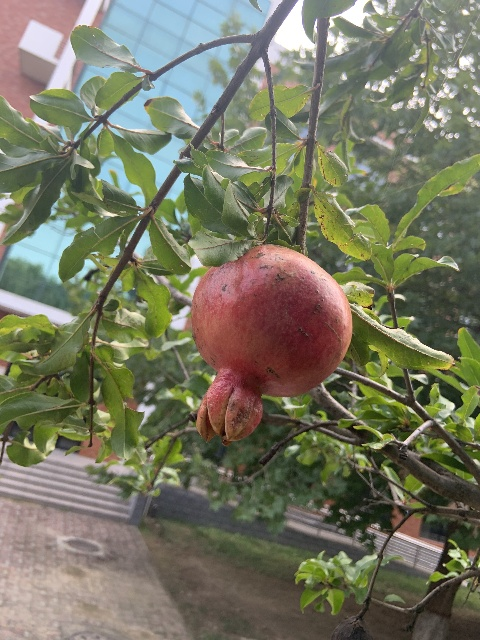ripe: (190, 244, 352, 445), (0, 0, 108, 123)
